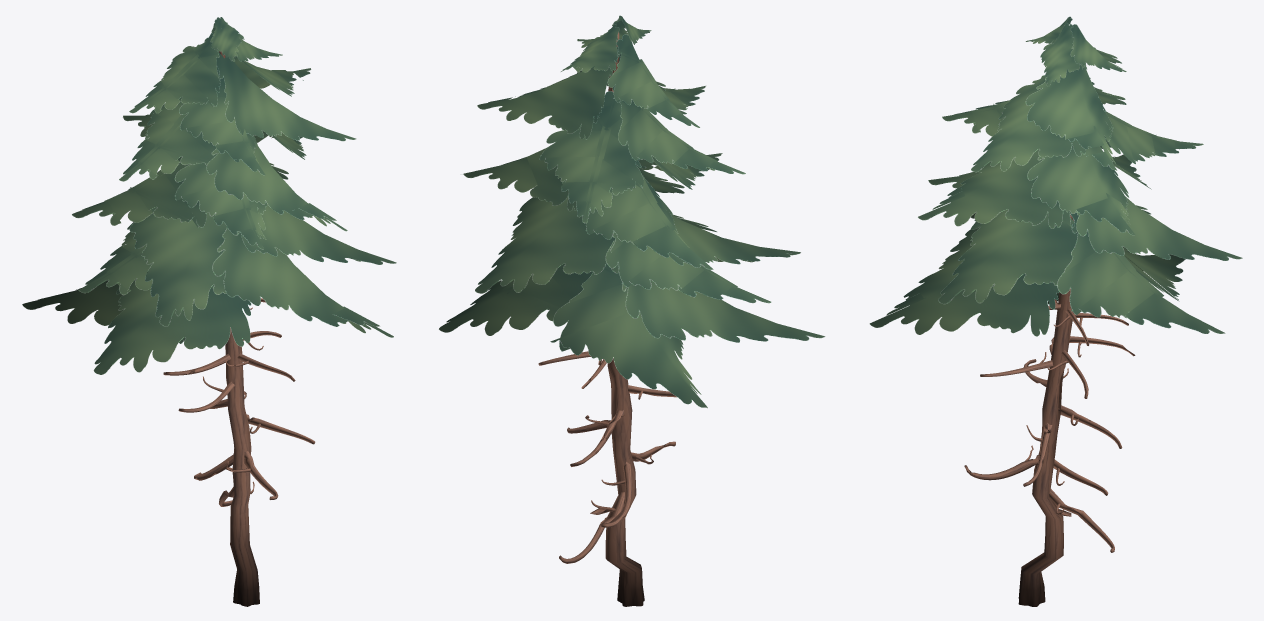
The model's file is Pine_3.glb.
3 renders of one model, left to right at view 1: azimuth 30°, elevation 25°; view 2: azimuth 150°, elevation 25°; view 3: azimuth 270°, elevation 25°, orthographic. The views are drawn at different scales.
Parts seen in each view (by area): view 1: Pine_3; view 2: Pine_3; view 3: Pine_3.
Part boxes in pixels (bbox=[...]): Pine_3: bbox=[22, 17, 396, 606]; Pine_3: bbox=[439, 15, 825, 606]; Pine_3: bbox=[869, 16, 1242, 606].
Bounding box in the file's own units: 3.94 × 7.43 × 4.47.
Materials: 2 (2 with a texture image).
